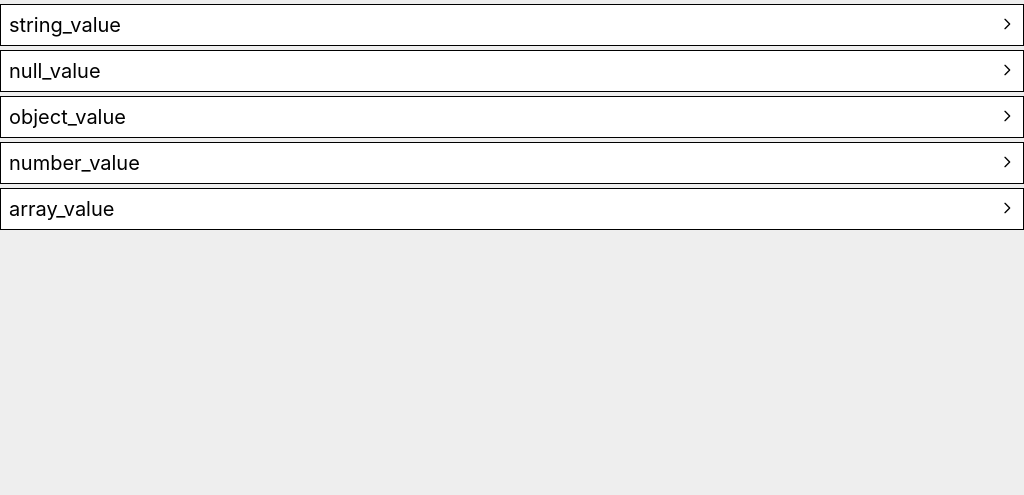
Test: <FetchUrl> › jsonView render nodes and on click should render nested array
The width and height of the screenshot is (1024, 495).
What coordinates should you click on to do the following:
click the text "array_value"
I would click on:
 (512, 209)
Its box is [0, 188, 1023, 230].
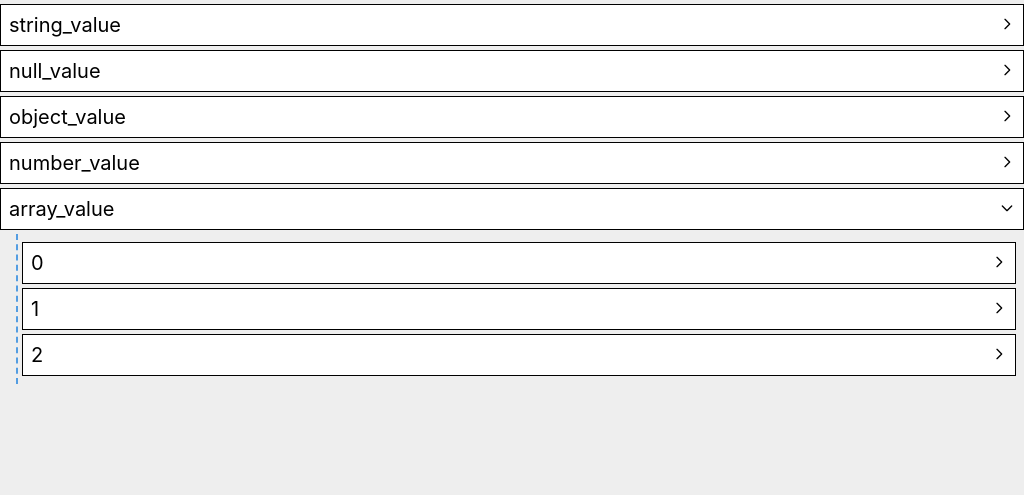
# second element in array click
What coordinates should you click on to do the following:
click the text "1"
I would click on:
 (519, 309)
Its box is [22, 288, 1016, 330].
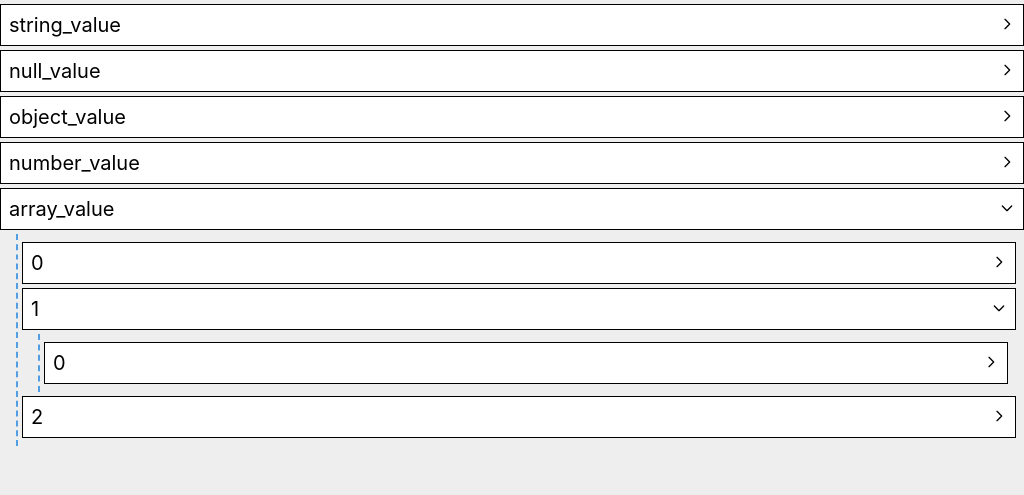
Result: the text "0" is shown 2 times
What coordinates should you click on to do the following:
click the 2nd text "0"
I would click on:
 (526, 363)
Its box is [44, 342, 1008, 384].
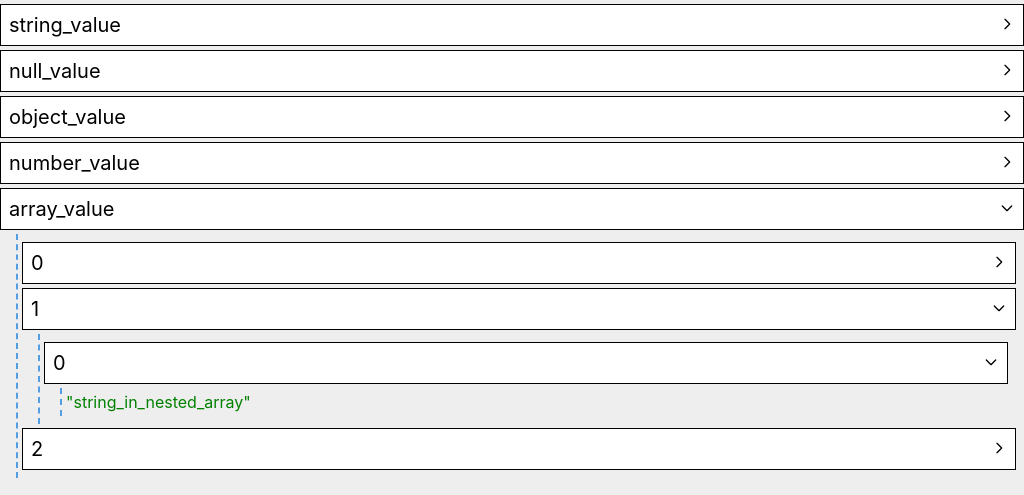
Result: the text "\"string_in_nested_array\"" is shown at [66, 392, 251, 412]
